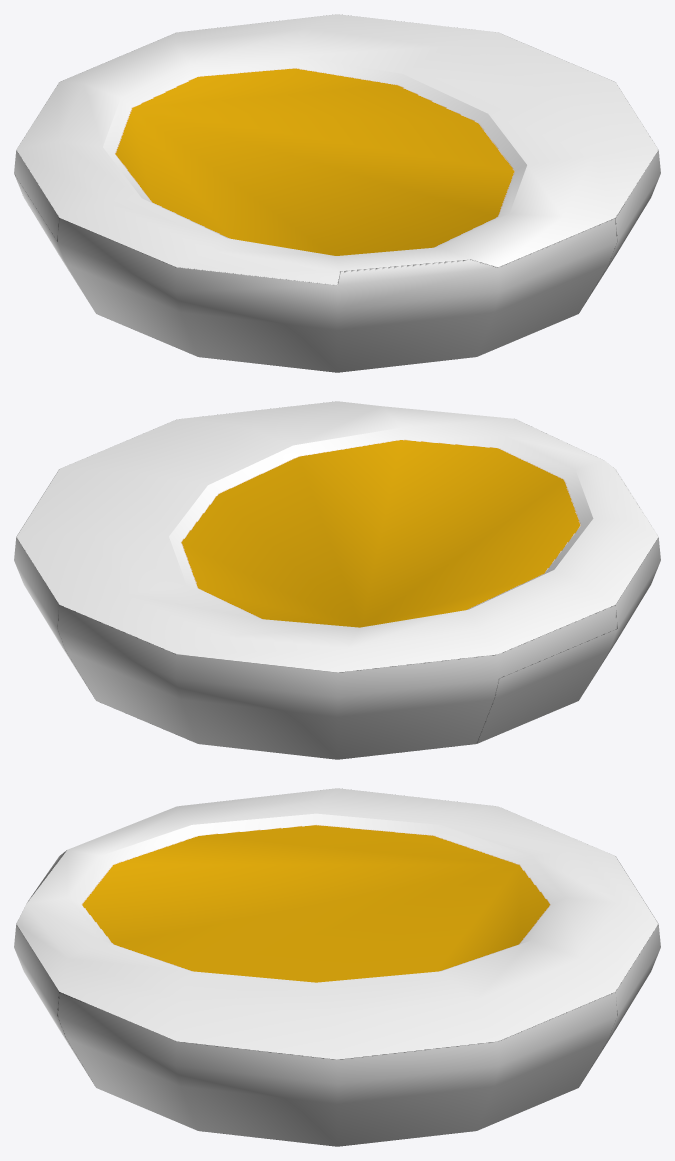
The picture shows the model from 3 angles, top to bottom: view 1: azimuth 30°, elevation 25°; view 2: azimuth 150°, elevation 25°; view 3: azimuth 270°, elevation 25°; orthographic projection.
Parts seen in each view (by area): view 1: Circle.022_Baked; view 2: Circle.022_Baked; view 3: Circle.022_Baked.
Part boxes in pixels (x1,y1,x2,y2): Circle.022_Baked: [14, 14, 660, 372]; Circle.022_Baked: [14, 401, 660, 759]; Circle.022_Baked: [14, 788, 660, 1146].
Bounding box in the file's own units: 15.9 × 3.11 × 15.9.
1 material, 1 textured.
